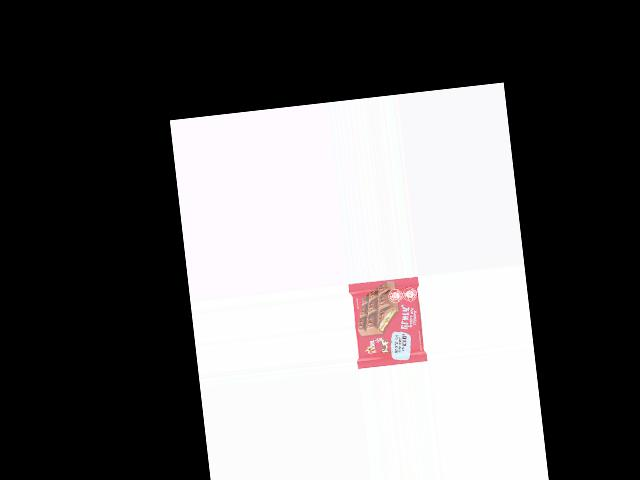chocolate: (349, 277, 428, 366)
